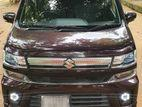car: (2, 0, 138, 107)
